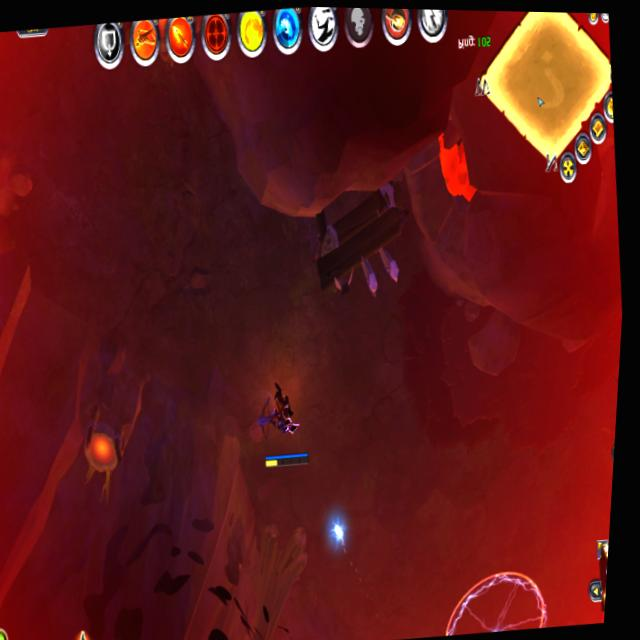red: (250, 363, 317, 474)
silver: (445, 573, 546, 635)
